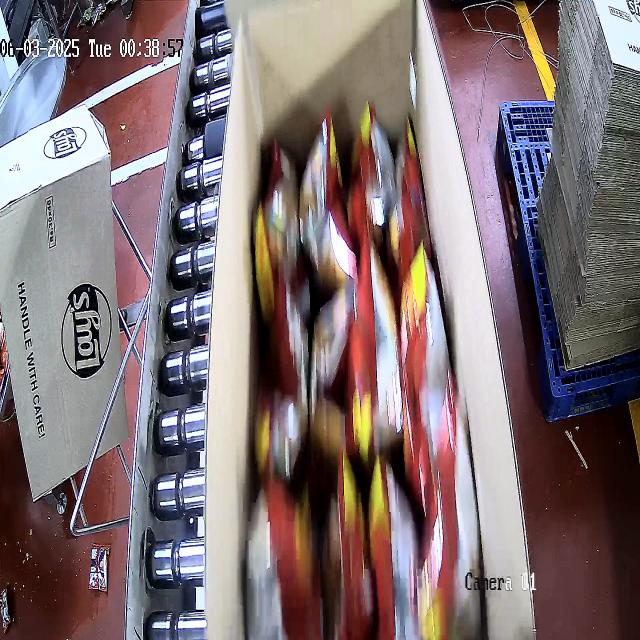MASALA: (249, 100, 480, 638)
